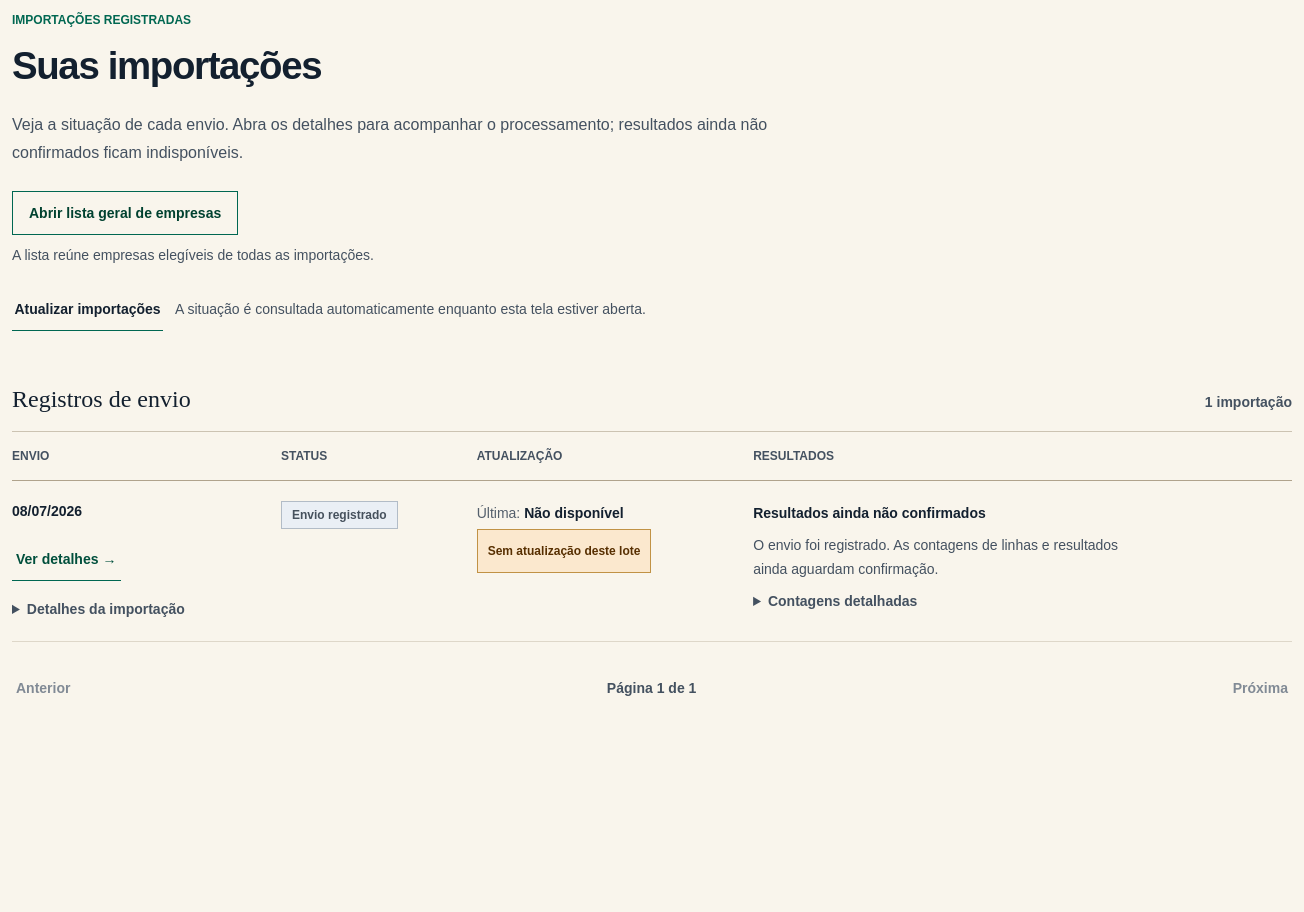
Scenario: batch list page › removes the previous list when refresh authorization fails with 401
Expected: the table named "Importações registradas" is shown, [12,432,1292,642]
Click the button "Atualizar importações". click: click(88, 309)
box: [12,287,163,331]
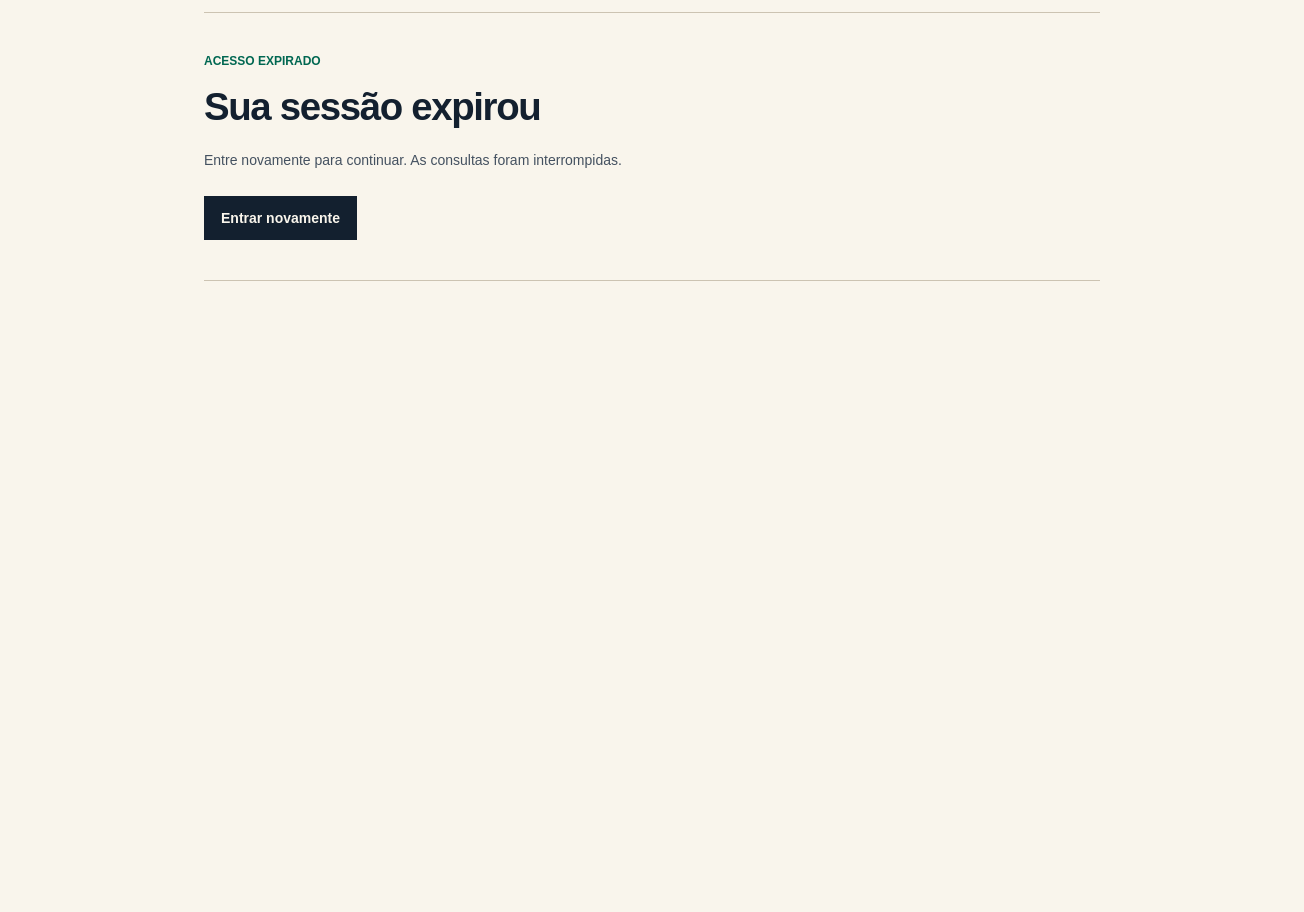
Expected: the message is shown, [204,12,1100,281]
Expected: the table is gone
